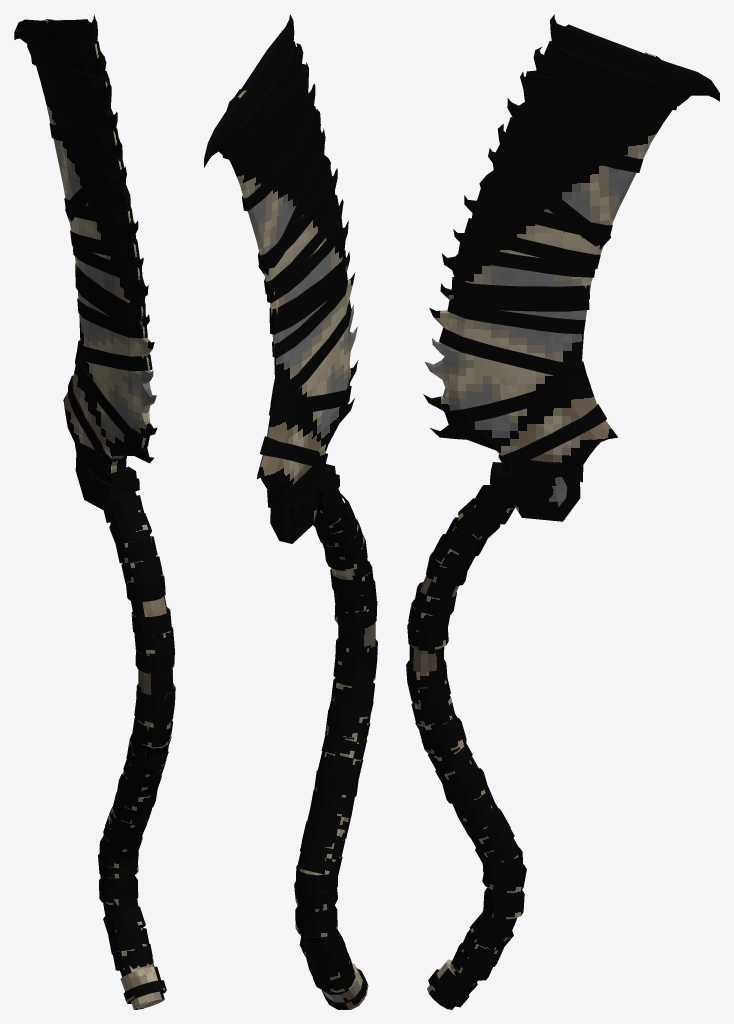
File: saw_cleaver_extended.obj
The picture shows the model from 3 angles, left to right: view 1: azimuth 30°, elevation 25°; view 2: azimuth 150°, elevation 25°; view 3: azimuth 270°, elevation 25°; orthographic projection. The views are drawn at different scales.
Visible parts, largest first — view 1: Plane_Plane.001, Cylinder.002_Cylinder.003, Cube.014_Cube.017, Cylinder.001; view 2: Plane_Plane.001, Cylinder.002_Cylinder.003, Cube.014_Cube.017, Cylinder.001; view 3: Plane_Plane.001, Cube.014_Cube.017, Cylinder.002_Cylinder.003, Cylinder.001.
Part boxes in pixels (x1,y1,x2,y2): Plane_Plane.001: (14, 14, 157, 509); Cylinder.002_Cylinder.003: (98, 495, 175, 970); Cube.014_Cube.017: (27, 19, 152, 473); Cylinder.001: (78, 456, 172, 1009); Plane_Plane.001: (204, 14, 358, 543); Cylinder.002_Cylinder.003: (294, 489, 377, 991); Cube.014_Cube.017: (219, 41, 351, 510); Cylinder.001: (290, 464, 375, 1009); Plane_Plane.001: (423, 14, 719, 521); Cube.014_Cube.017: (439, 41, 689, 482); Cylinder.002_Cylinder.003: (406, 485, 526, 980); Cylinder.001: (409, 462, 567, 1009).
Bounding box in the file's own units: 0.1968 × 4.89 × 1.4.
